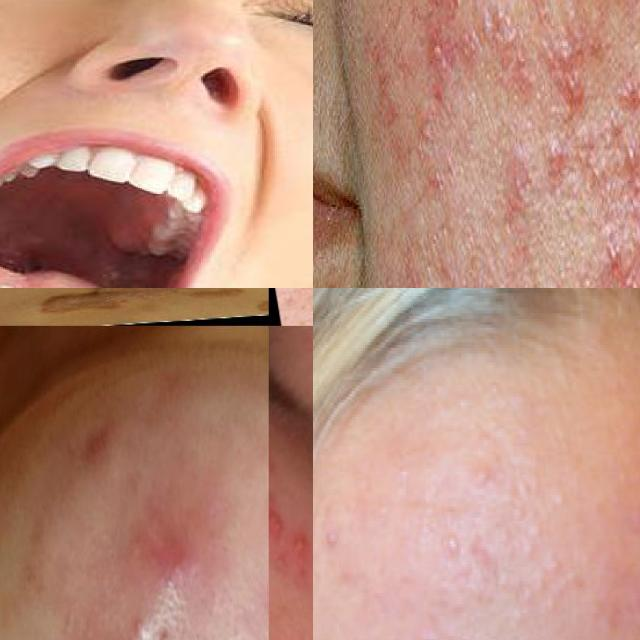cystic: (124, 477, 227, 637)
keloid: (21, 288, 261, 316)
pustule: (291, 523, 311, 556)
sebo-crystan-conglo: (269, 493, 287, 540)
